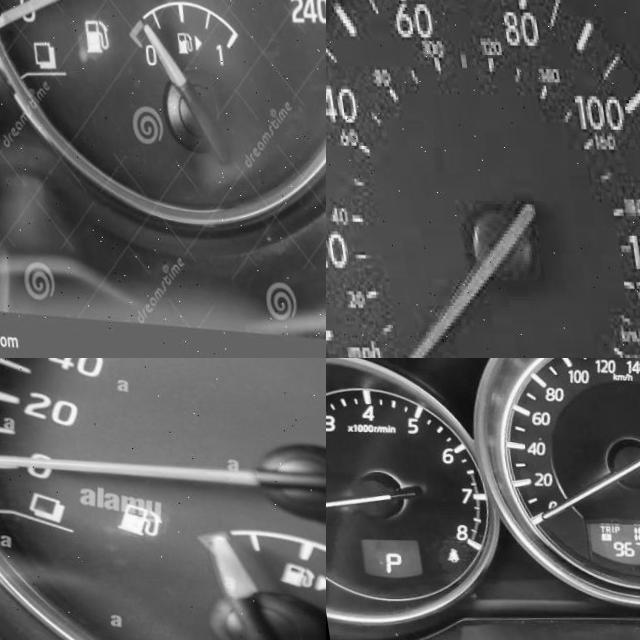Seat Belt: (432, 547, 447, 565)
